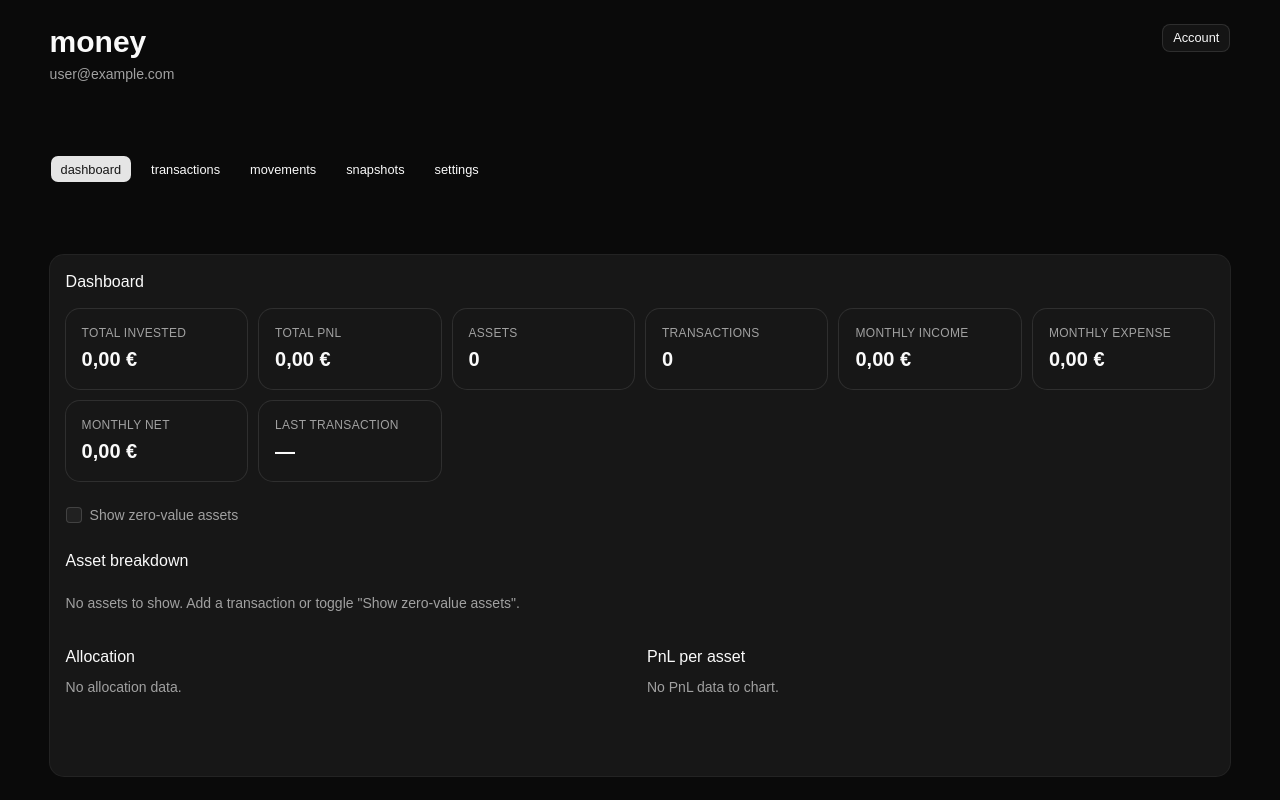
Transactions form dynamic fields (issue #51) › switching to 'cedola' hides Buy value, shows PnL
The width and height of the screenshot is (1280, 800).
Check: the heading "Dashboard" is shown, box [66,273,144,290]
Click the link "transactions": (186, 169) [151,162,220,177]
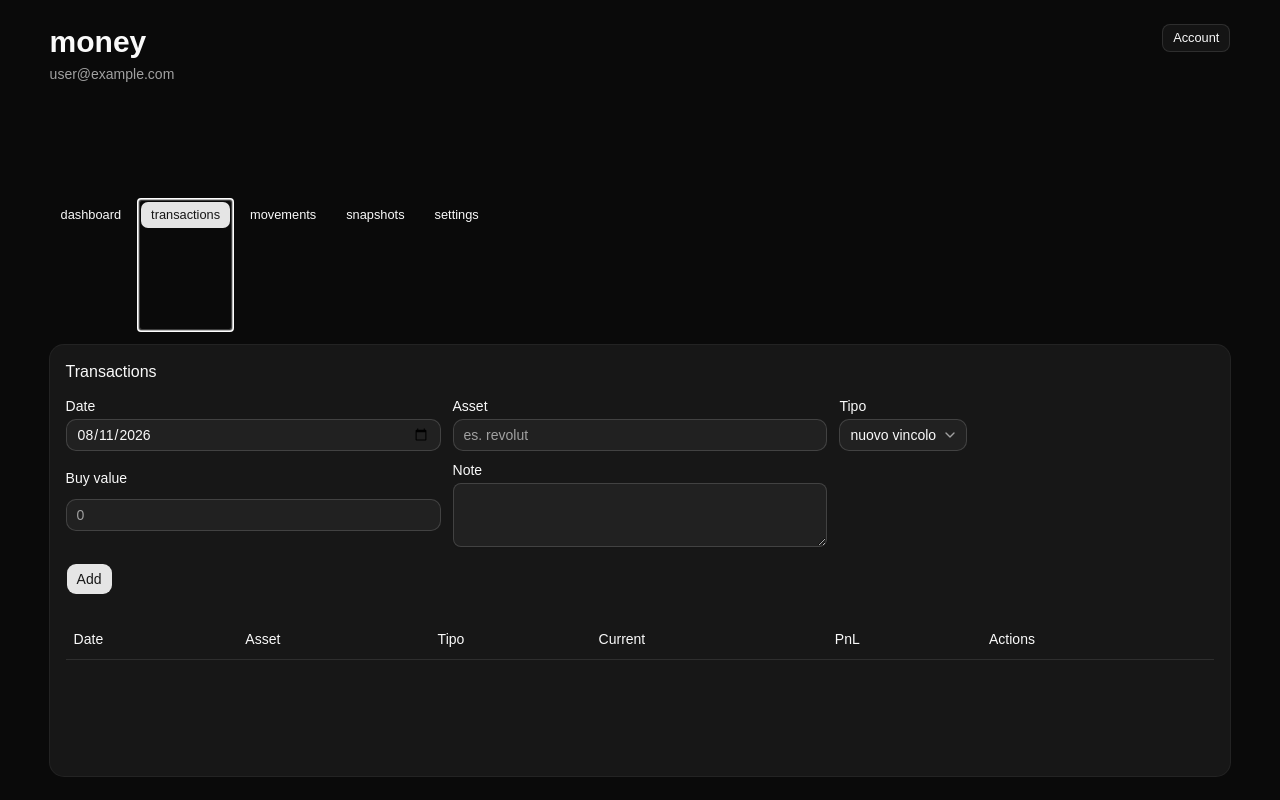
Click the dropdown named "Tipo": (903, 435) [840,419,967,451]
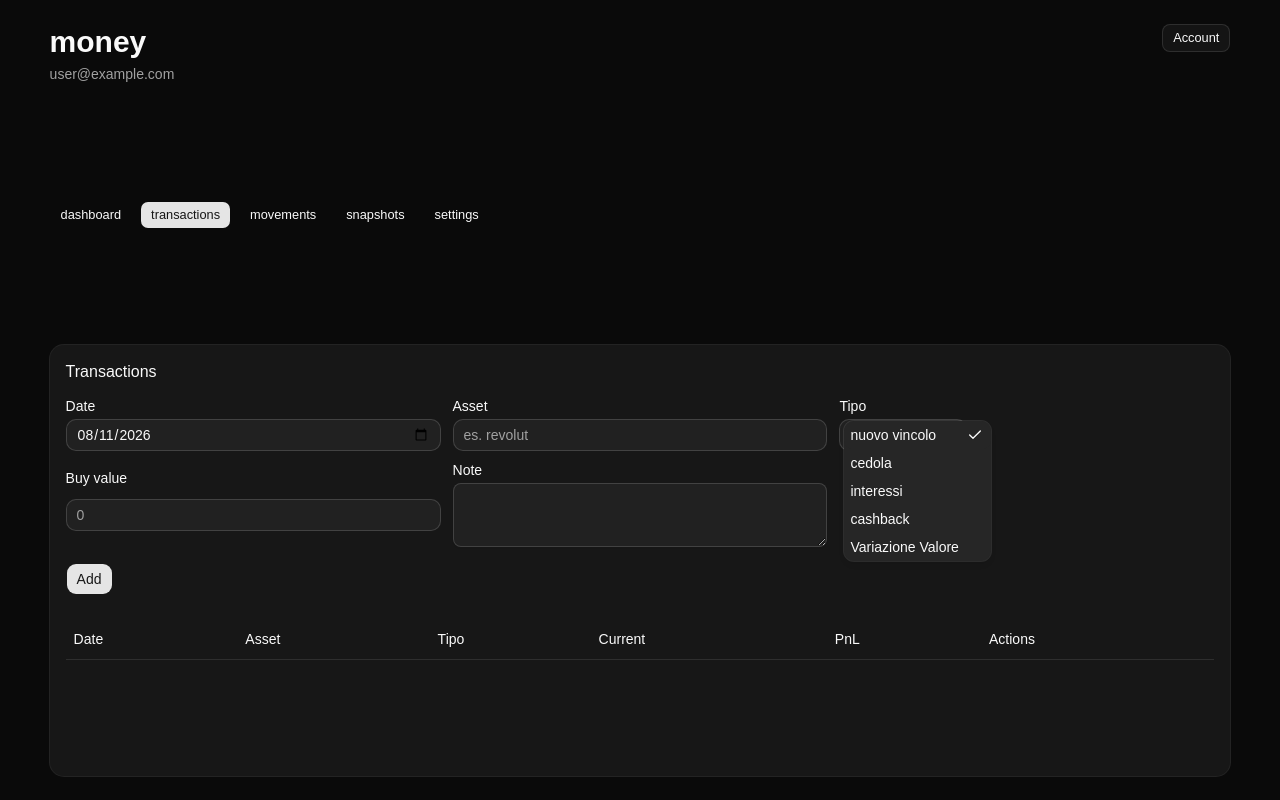
Click the option "cedola": (871, 463) [850,455,892,471]
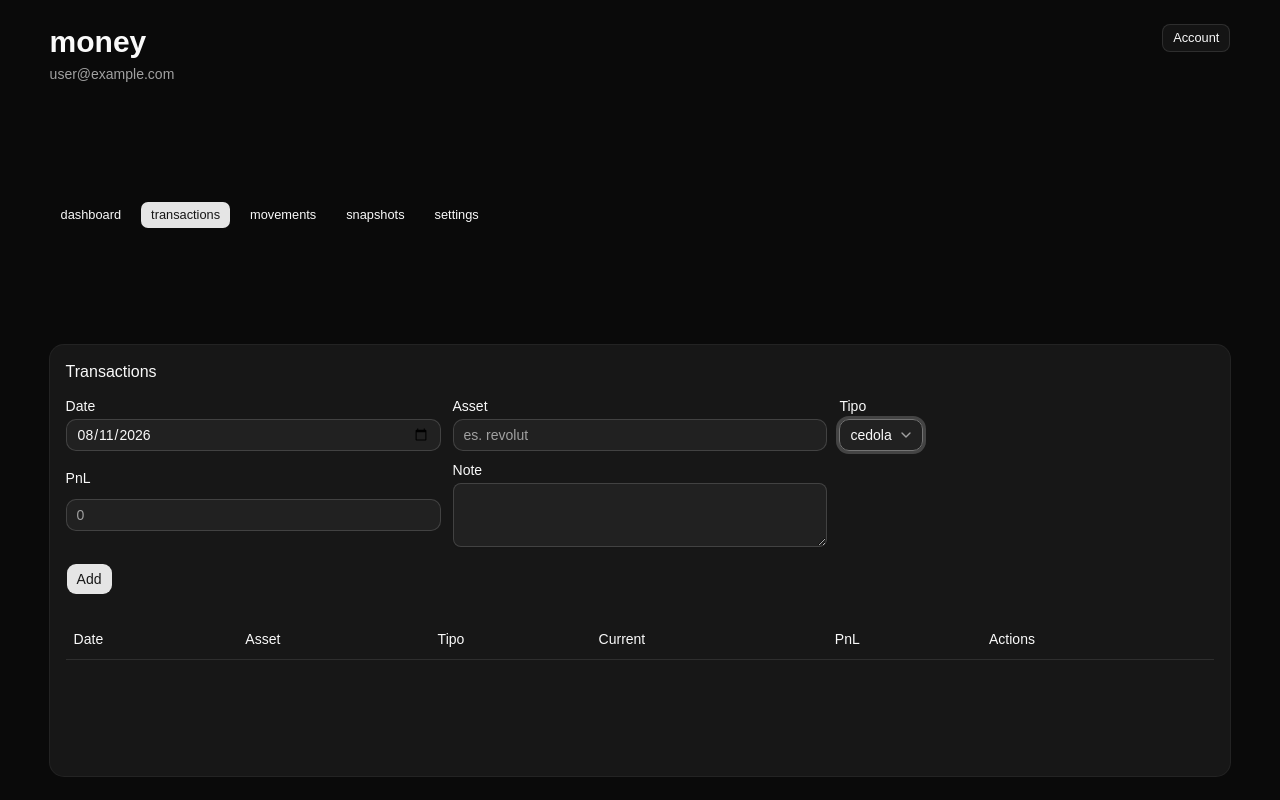
Check: the number field labelled "PnL" is shown, box [66,499,440,531]
Check: the label labelled "Buy value" is gone
